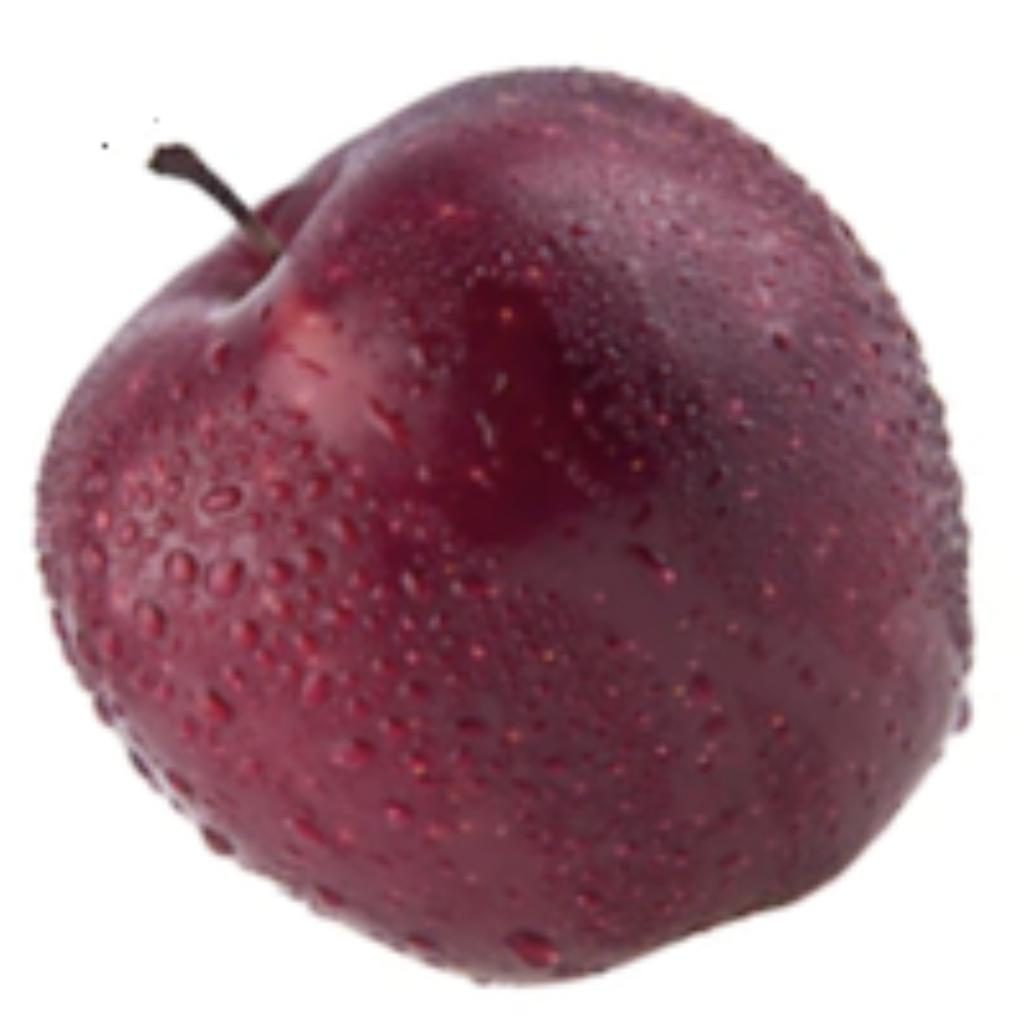apple: (26, 56, 978, 993)
